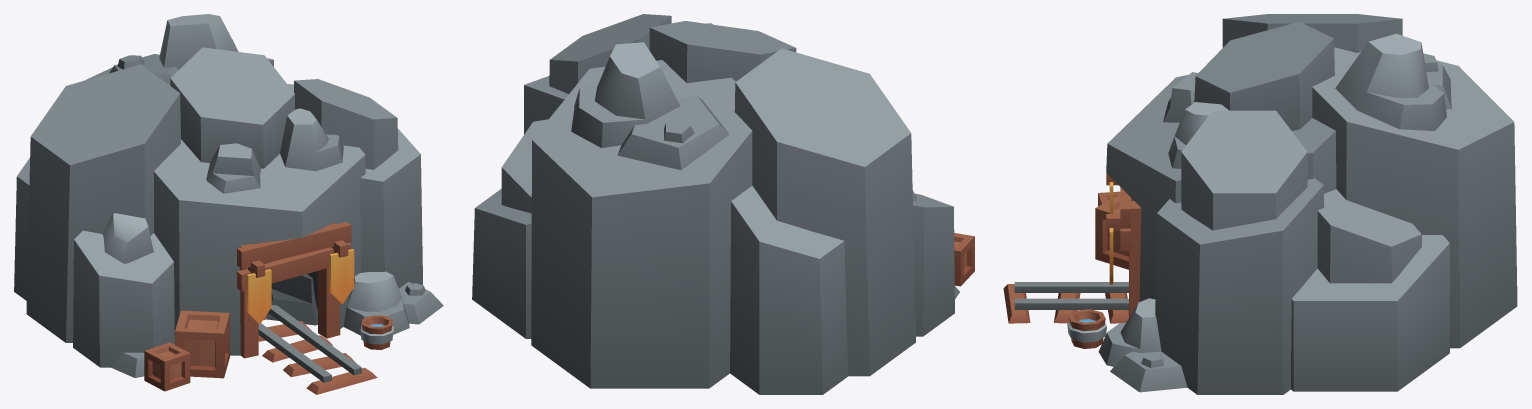
The model's file is mine_yellow.glb.
The picture shows the model from 3 angles, left to right: view 1: azimuth 30°, elevation 25°; view 2: azimuth 150°, elevation 25°; view 3: azimuth 270°, elevation 25°; orthographic projection. The views are drawn at different scales.
Parts seen in each view (by area): view 1: mine_yellow; view 2: mine_yellow; view 3: mine_yellow.
Part boxes in pixels (<box>): mine_yellow: <box>14,14,443,394</box>; mine_yellow: <box>472,14,974,394</box>; mine_yellow: <box>1003,14,1517,394</box>.
Size of the model in its own units: 0.8028 by 0.5683 by 0.96.
Materials: 1 (1 with a texture image).
